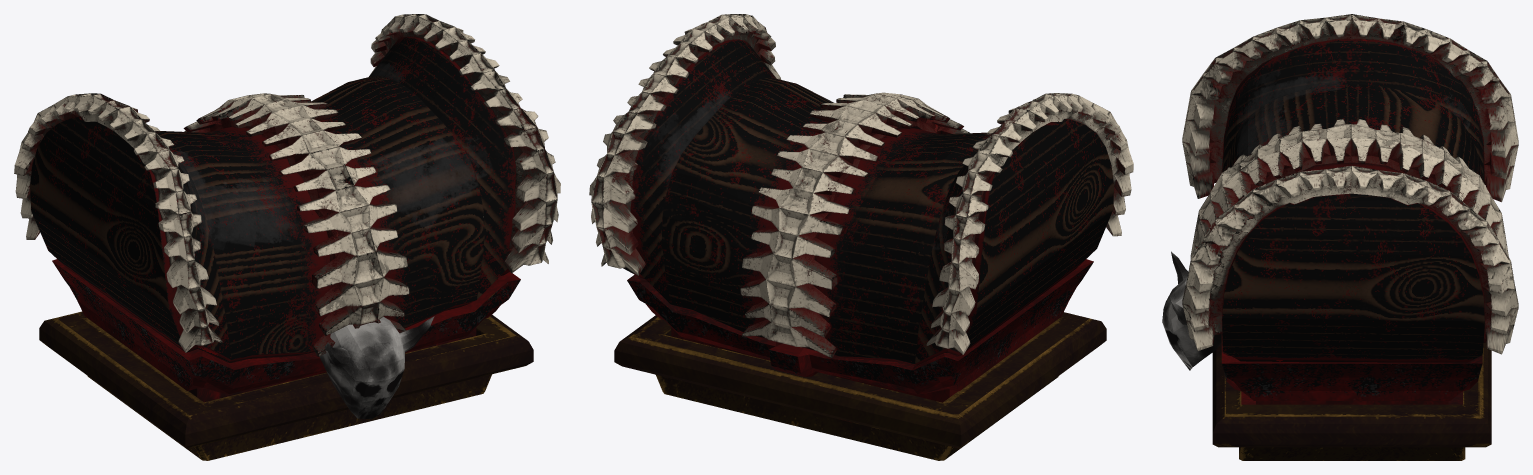
Rendered from cofre_anim.fbx.
The picture shows the model from 3 angles, left to right: view 1: azimuth 30°, elevation 25°; view 2: azimuth 150°, elevation 25°; view 3: azimuth 270°, elevation 25°; orthographic projection. The views are drawn at different scales.
Visible parts, largest first — view 1: tapa1, base_real, base_cofre, craneo; view 2: tapa1, base_real, base_cofre; view 3: tapa1, base_real, base_cofre, craneo.
Boxes of the visible parts, bbox=[...] form: tapa1: bbox=[14, 14, 560, 362]; base_real: bbox=[39, 311, 533, 460]; base_cofre: bbox=[52, 259, 520, 402]; craneo: bbox=[319, 316, 434, 419]; tapa1: bbox=[589, 14, 1133, 365]; base_real: bbox=[614, 312, 1106, 460]; base_cofre: bbox=[627, 259, 1093, 402]; tapa1: bbox=[1182, 14, 1518, 362]; base_real: bbox=[1212, 342, 1491, 460]; base_cofre: bbox=[1221, 334, 1486, 404]; craneo: bbox=[1162, 251, 1221, 370].
Size of the model in its own units: 9.02 by 7.1 by 7.47.
